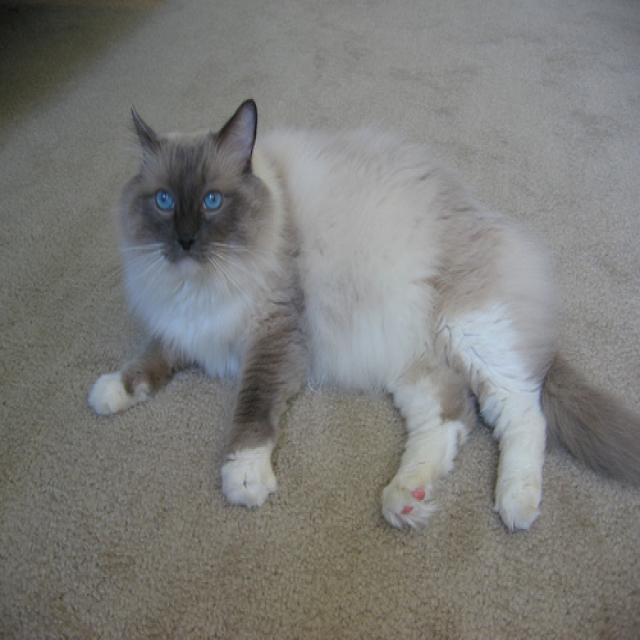Ragdoll: (129, 97, 256, 273)
